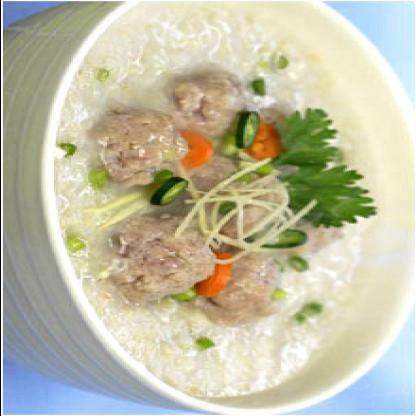Joke: (2, 1, 386, 393)
